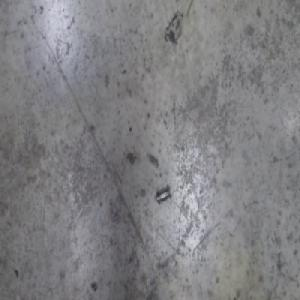Bolt: (155, 184, 171, 204)
